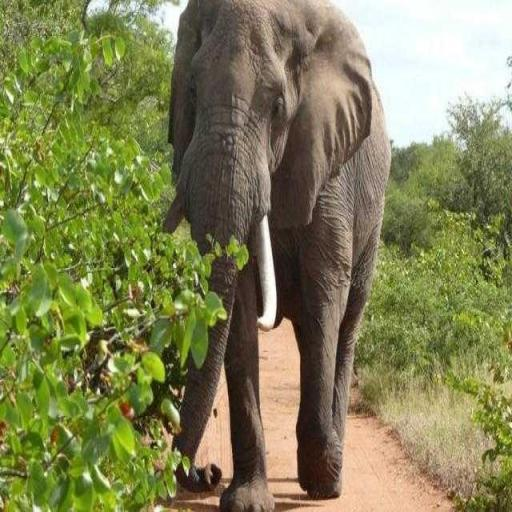Elephant: (160, 0, 391, 510)
